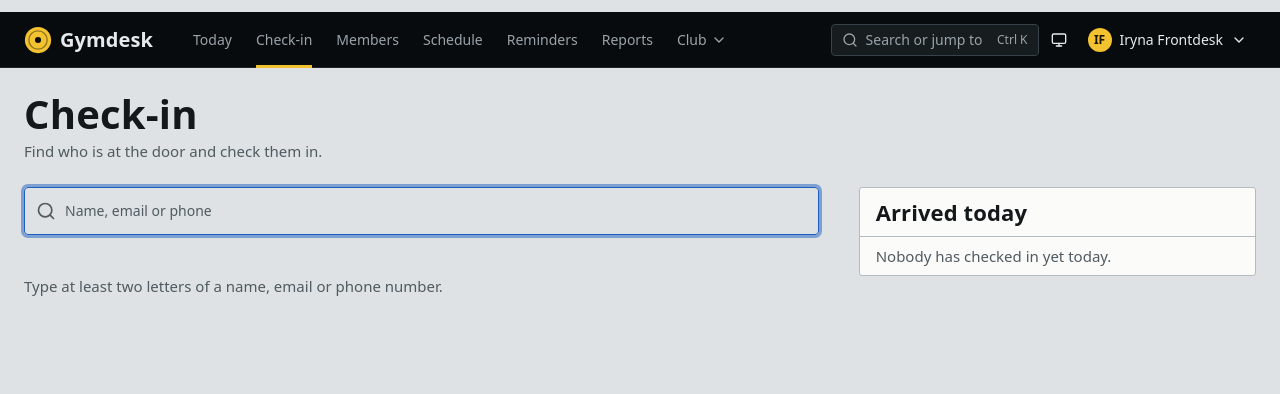
it: finding members › explains a search failure
Expected: the heading "Check-in" is shown, [24,86,198,141]
Type "olena" into the search field named "Find a member".
click(421, 210); type("olena")  # box [24,186,819,234]
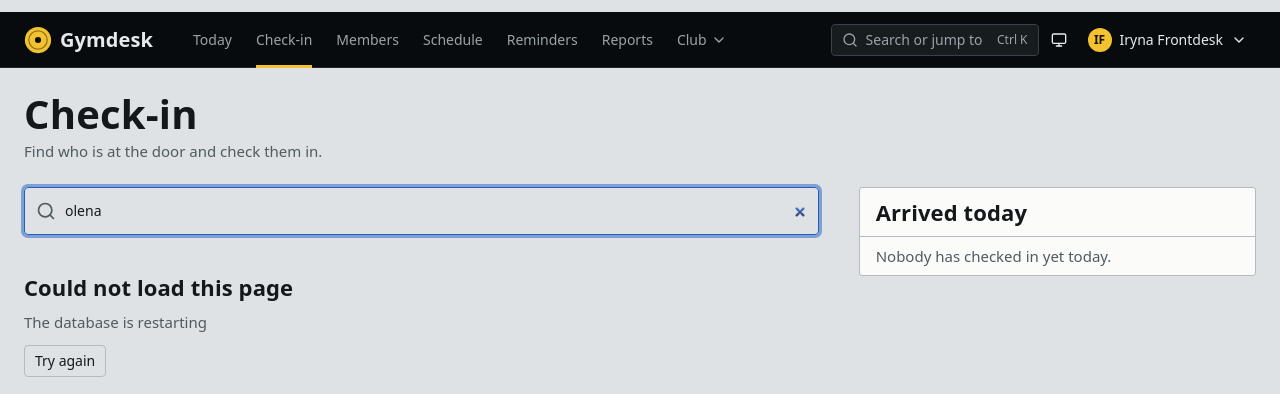
Now the text "The database is restarting" is shown, box [24,311,207,333]
